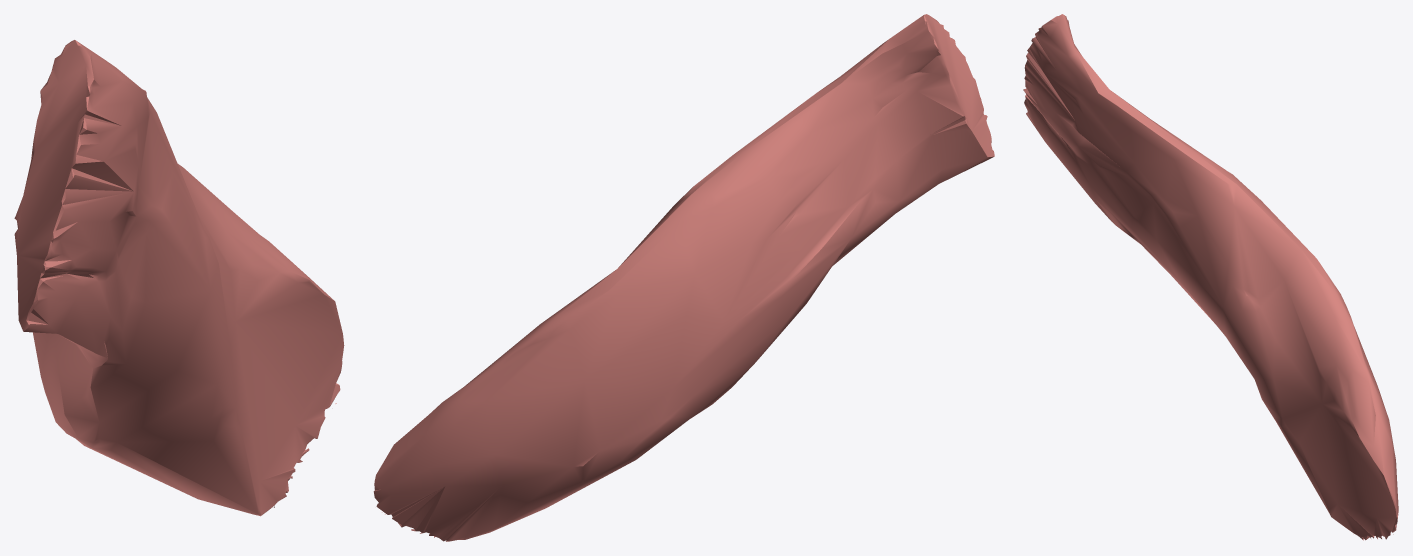
Rendered from fma32551_fj1507.glb.
3 views of the same model, side by side, from view 1: azimuth 30°, elevation 25°; view 2: azimuth 150°, elevation 25°; view 3: azimuth 270°, elevation 25° (orthographic). The views are drawn at different scales.
Parts seen in each view (by area): view 1: FMA32551_FJ1507; view 2: FMA32551_FJ1507; view 3: FMA32551_FJ1507.
Boxes of the visible parts, x1,y1,x2,y2 form: FMA32551_FJ1507: (14, 40, 344, 516); FMA32551_FJ1507: (373, 14, 994, 541); FMA32551_FJ1507: (1023, 14, 1398, 540).
Size of the model in its own units: 0.0861 by 0.0957 by 0.0811.
